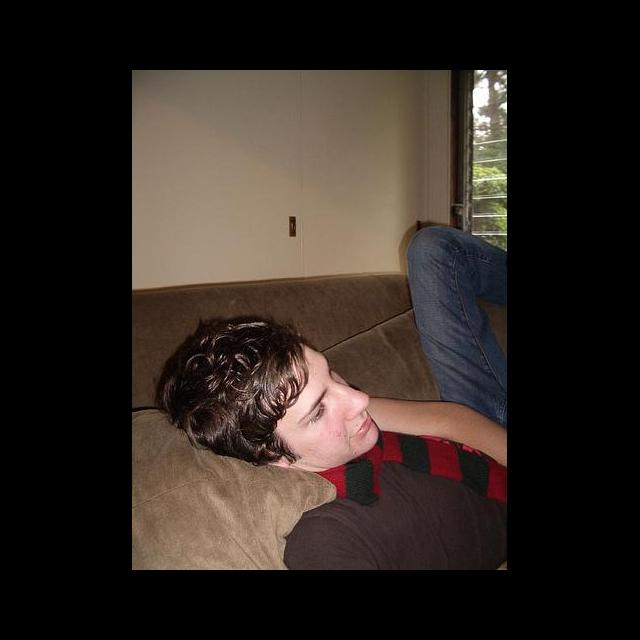NO-Hardhat: (166, 313, 310, 456)
NO-Mask: (323, 385, 382, 467)
NO-Safety Vest: (346, 429, 508, 494)
Person: (157, 219, 508, 502)
